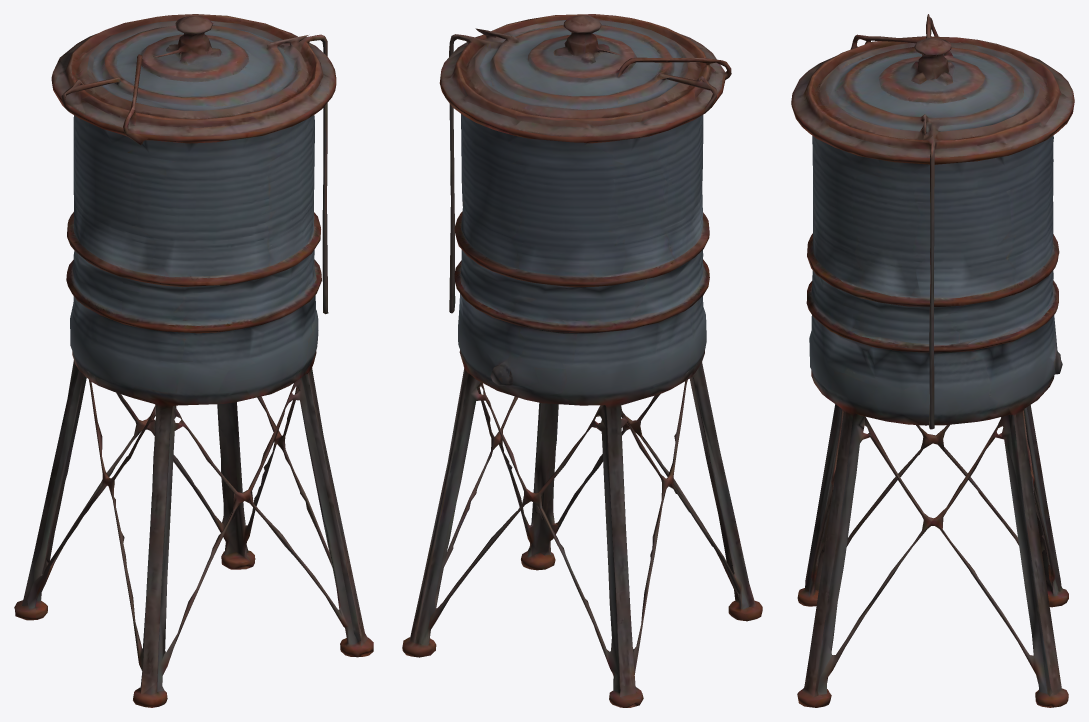
The model's file is water_tower.glb.
The picture shows the model from 3 angles, left to right: view 1: azimuth 30°, elevation 25°; view 2: azimuth 150°, elevation 25°; view 3: azimuth 270°, elevation 25°; orthographic projection.
Bounding box in the file's own units: 0.4539 × 1 × 0.4202.
1 material, 1 textured.
